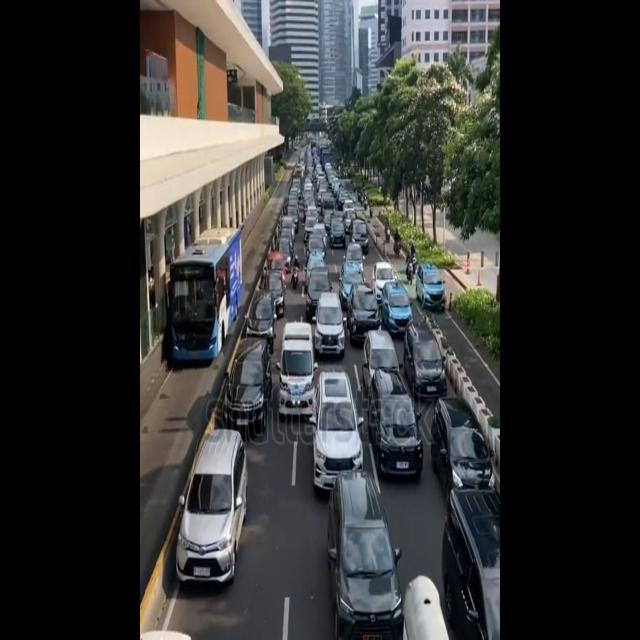Ambulance: (278, 305, 321, 435)
